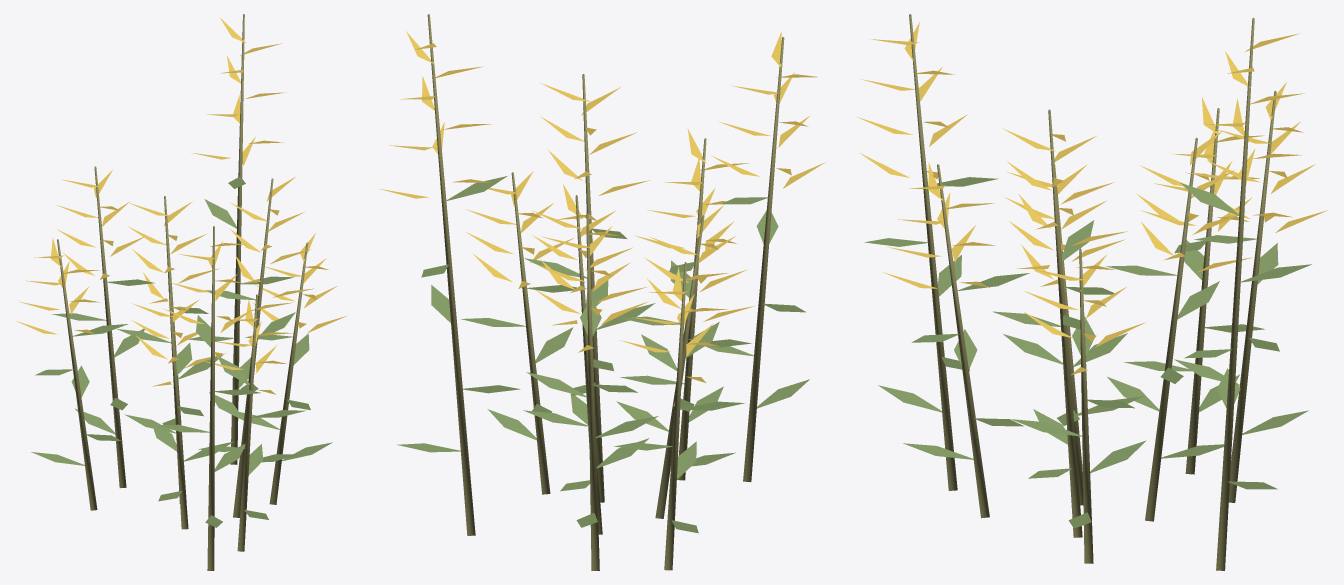
File: goldenrod.glb
3 renders of one model, left to right at view 1: azimuth 30°, elevation 25°; view 2: azimuth 150°, elevation 25°; view 3: azimuth 270°, elevation 25°, orthographic. The views are drawn at different scales.
Parts seen in each view (by area): view 1: understory_goldenrod_LOD0; view 2: understory_goldenrod_LOD0; view 3: understory_goldenrod_LOD0.
Boxes of the visible parts, x1,y1,x2,y2 form: understory_goldenrod_LOD0: (16,14,347,570); understory_goldenrod_LOD0: (380,14,825,570); understory_goldenrod_LOD0: (857,14,1327,570).
Bounding box in the file's own units: 0.8567 × 1.32 × 1.
